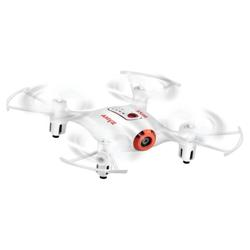drone: (4, 69, 244, 181)
